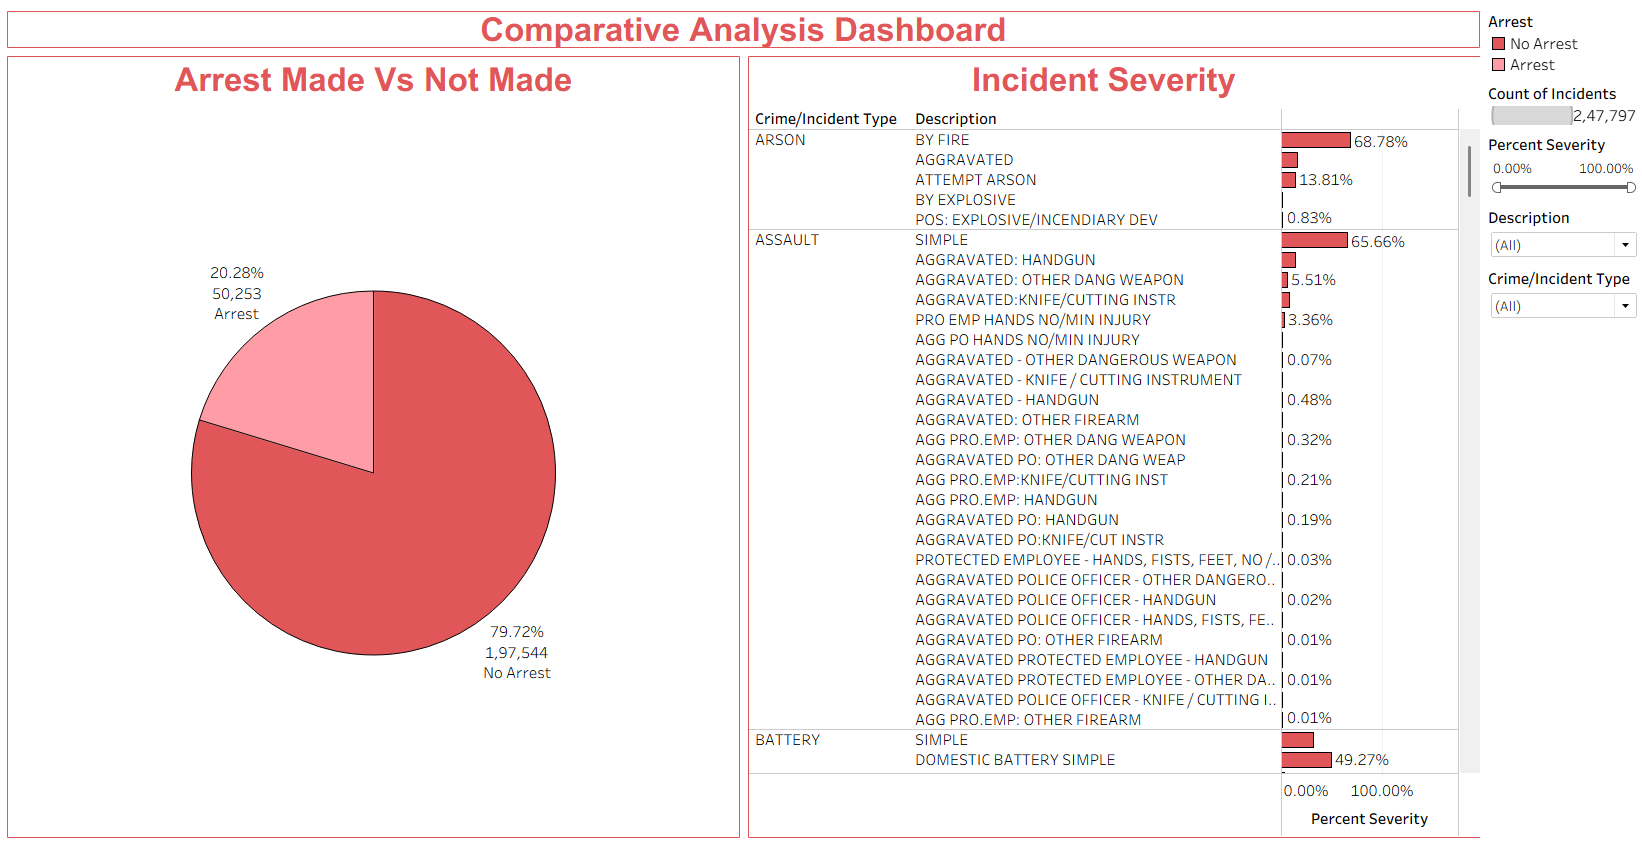

What the dashboard file says about the page in this screenshot:
{"tool":"tableau","page":{"name":"Comparative Analysis Dashboard","canvas":[1000,1000],"units":"permille","ordinal":0},"visuals":[{"type":"title","box":[4.8,9.4,893.8,52.9]},{"type":"legend","title":"Arrest Made Vs Not Made","param":"[federated.0i9ooec00x0po11buzn6f05qnz67].[none:Arrest:nk]","box":[898.6,9.4,96.6,84.6]},{"type":"worksheet","title":"Arrest Made Vs Not Made","mark":"Pie","box":[4.8,62.3,446.9,928.3]},{"type":"worksheet","title":"Incident Severity","mark":"Automatic","rows":["Primary Type","Description"],"cols":["Calculation2"],"box":[451.7,62.3,446.9,928.3]},{"type":"legend","title":"Arrest Made Vs Not Made","param":"[federated.0i9ooec00x0po11buzn6f05qnz67].[__tableau_internal_object_id__].[cnt:S","box":[898.6,94,96.6,59.9]},{"type":"filter","title":"Incident Severity","param":"[federated.0i9ooec00x0po11buzn6f05qnz67].[usr:Calculation2:qk]","box":[898.6,153.9,96.6,85.8]},{"type":"filter","title":"Incident Severity","param":"[federated.0i9ooec00x0po11buzn6f05qnz67].[none:Description:nk]","box":[898.6,239.7,96.6,71.7]},{"type":"filter","title":"Incident Severity","param":"[federated.0i9ooec00x0po11buzn6f05qnz67].[none:Primary Type:nk]","box":[898.6,311.4,96.6,71.7]}]}

Visuals, with their boxes on the dashboard's canvas, which has no fixed pixel size, in thousandths of its width and height (x1, y1, x2, y2). These are canvas units, not pixel positions in the 1642x842 screenshot, which may show the page scaled, cropped or inside an application window:
title: locate(5, 9, 899, 62)
"Arrest Made Vs Not Made" legend: locate(899, 9, 995, 94)
"Arrest Made Vs Not Made" worksheet (Pie marks): locate(5, 62, 452, 991)
"Incident Severity" worksheet: locate(452, 62, 899, 991)
"Arrest Made Vs Not Made" legend: locate(899, 94, 995, 154)
"Incident Severity" filter: locate(899, 154, 995, 240)
"Incident Severity" filter: locate(899, 240, 995, 311)
"Incident Severity" filter: locate(899, 311, 995, 383)
